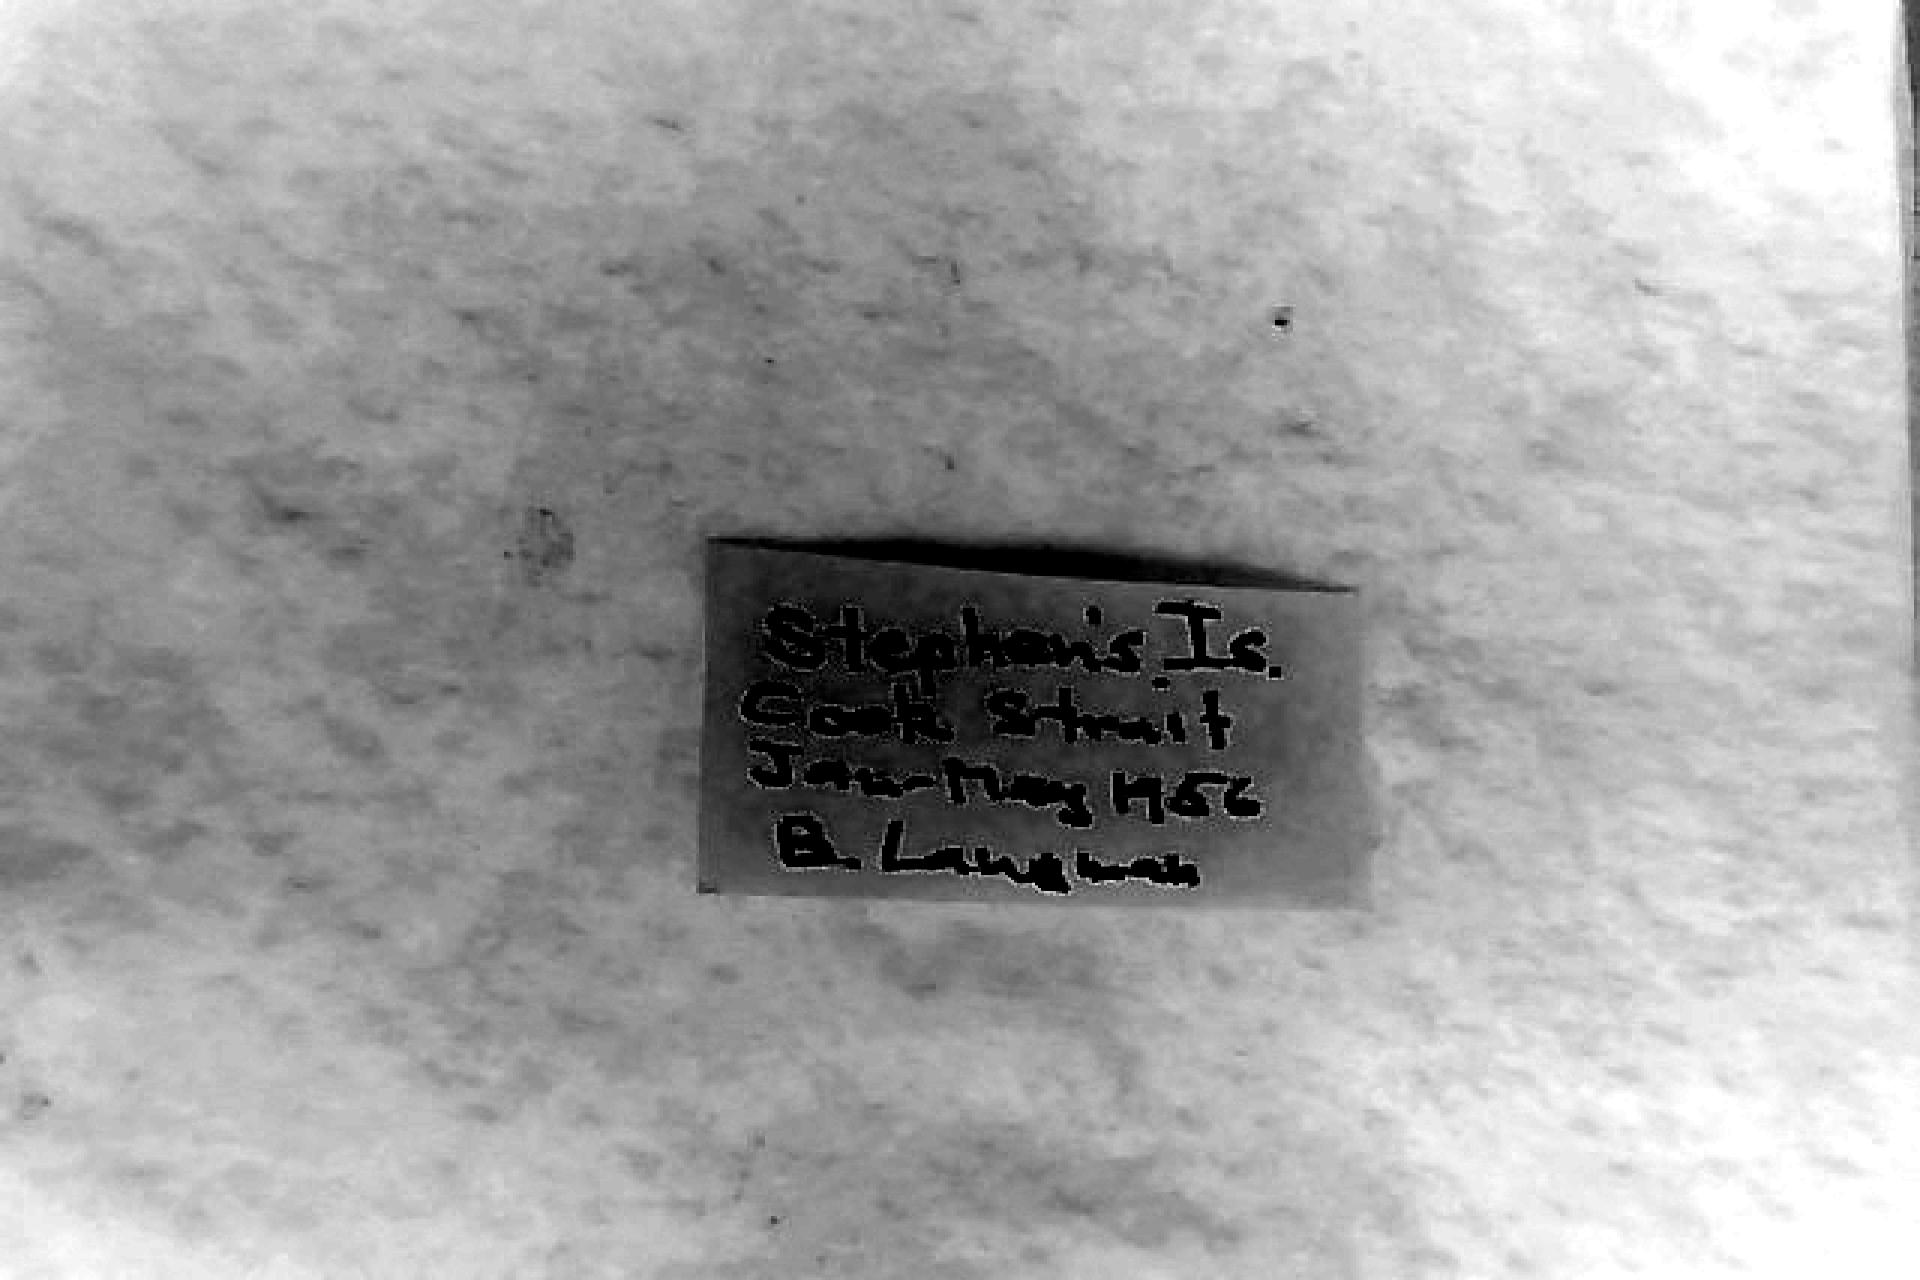hand_label: (701, 543, 1369, 902)
